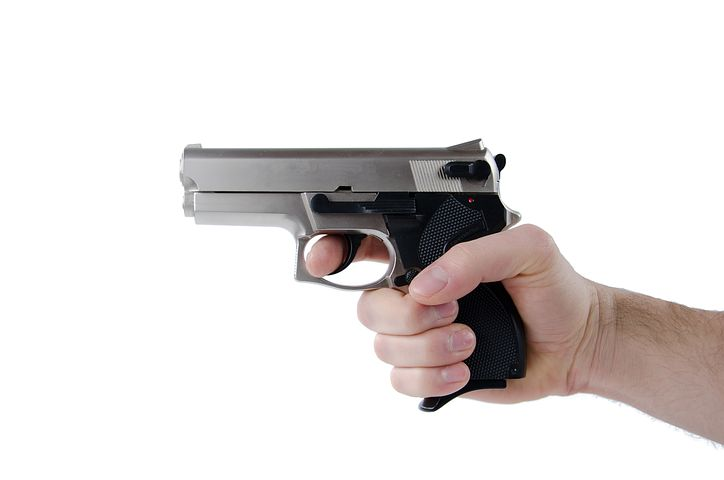gun: (175, 139, 531, 398)
